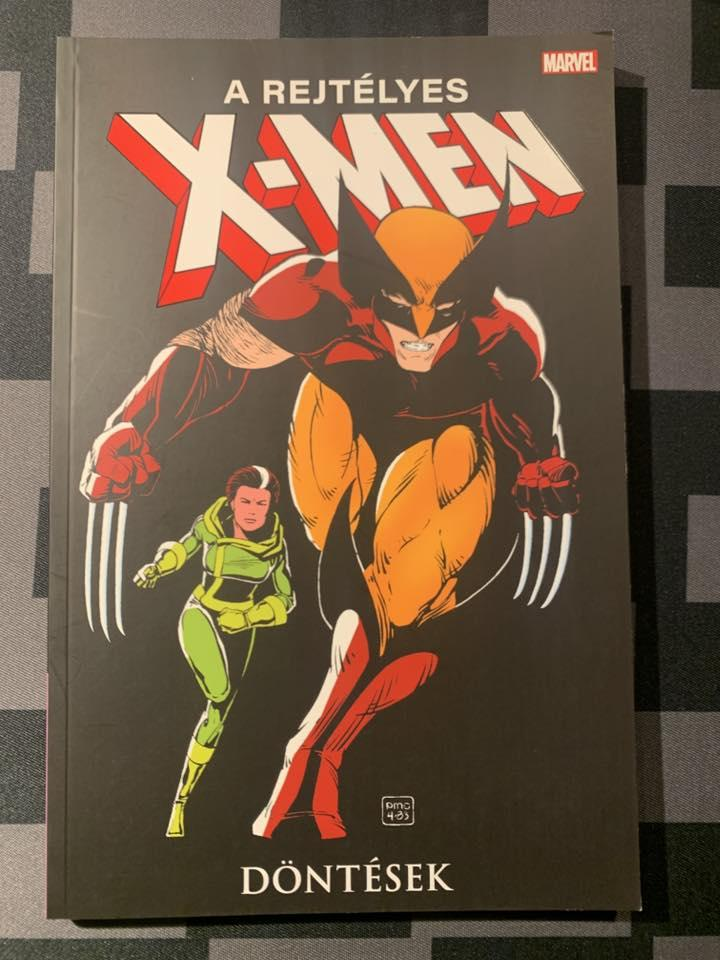comic: (37, 34, 638, 918)
